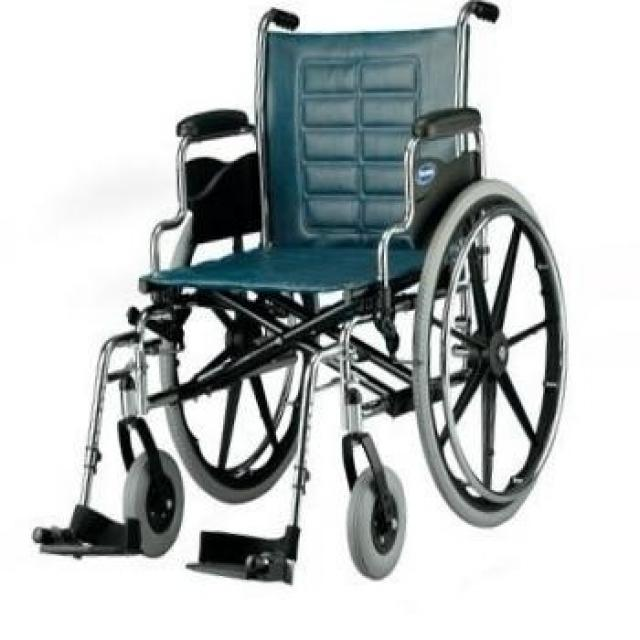wheelchair: (23, 0, 598, 589)
